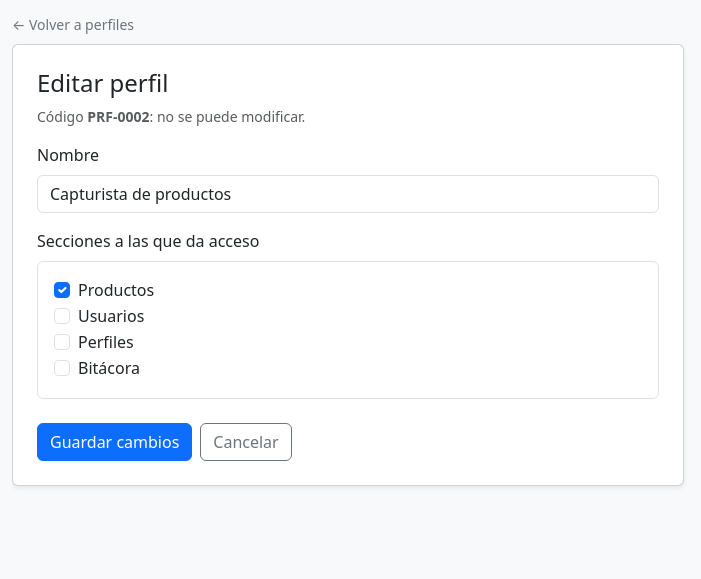
Test: ProfileFormComponent › edición (/perfiles/:code/editar) › envía los cambios con PUT
Click the checkbox labelled "Bitácora".
click(62, 368)  # box x1=54 y1=360 x2=70 y2=376
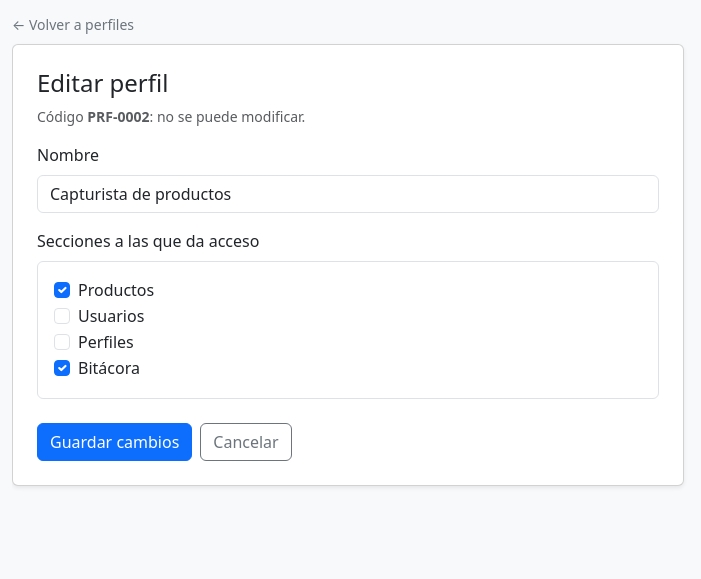
Submit the form, box x1=37 y1=143 x2=659 y2=461
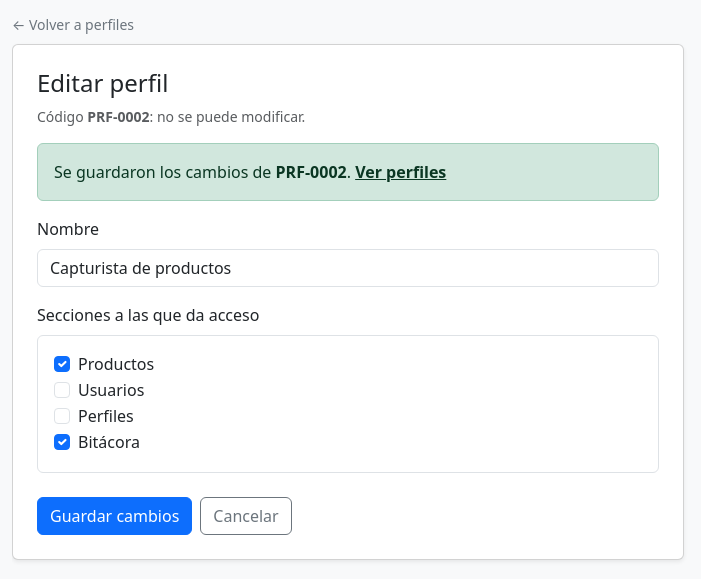
Now the message with class "alert-success" shows "Se guardaron los cambios de PRF-0002", box x1=37 y1=143 x2=659 y2=201
